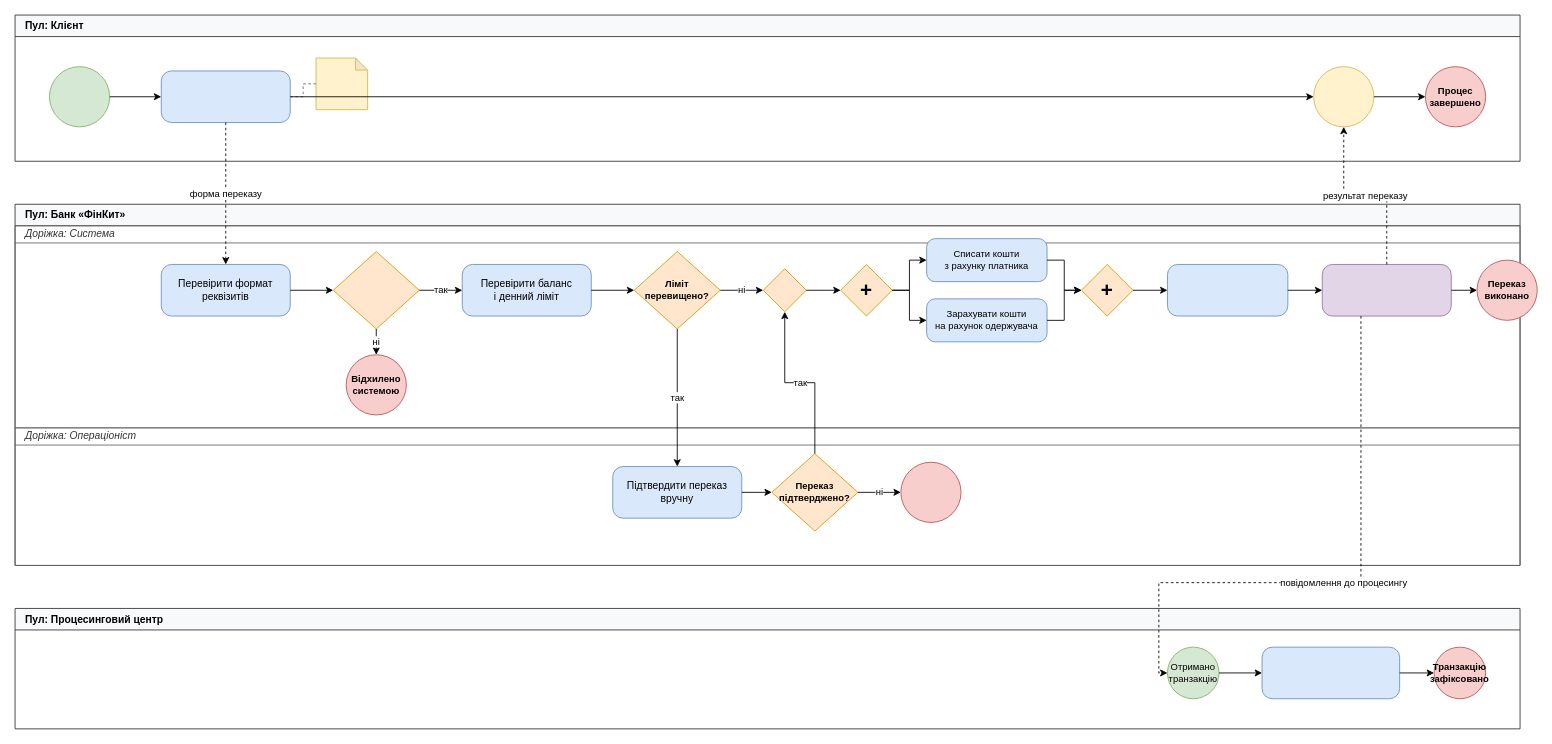
Some shapes in this 1552 by 744 pixel diagram are drawn without their labels. Each missing label, with the centre of its shape:
"Ввести суму і реквізити рахунків" belongs at point 225,96.
"Відхилено операціоністом" belongs at point 930,491.
"Запис обох операцій в історію" belongs at point 1227,290.
"Клієнт надіслав форму переказу" belongs at point 79,96.
"Надіслати результат клієнту та процесингу" belongs at point 1386,290.
"Обробити міжбанківський кліринг" belongs at point 1330,672.
"Отримати результат переказу" belongs at point 1343,96.
"Платіжне доручення" belongs at point 341,83.
"Реквізити коректні?" belongs at point 375,290.
